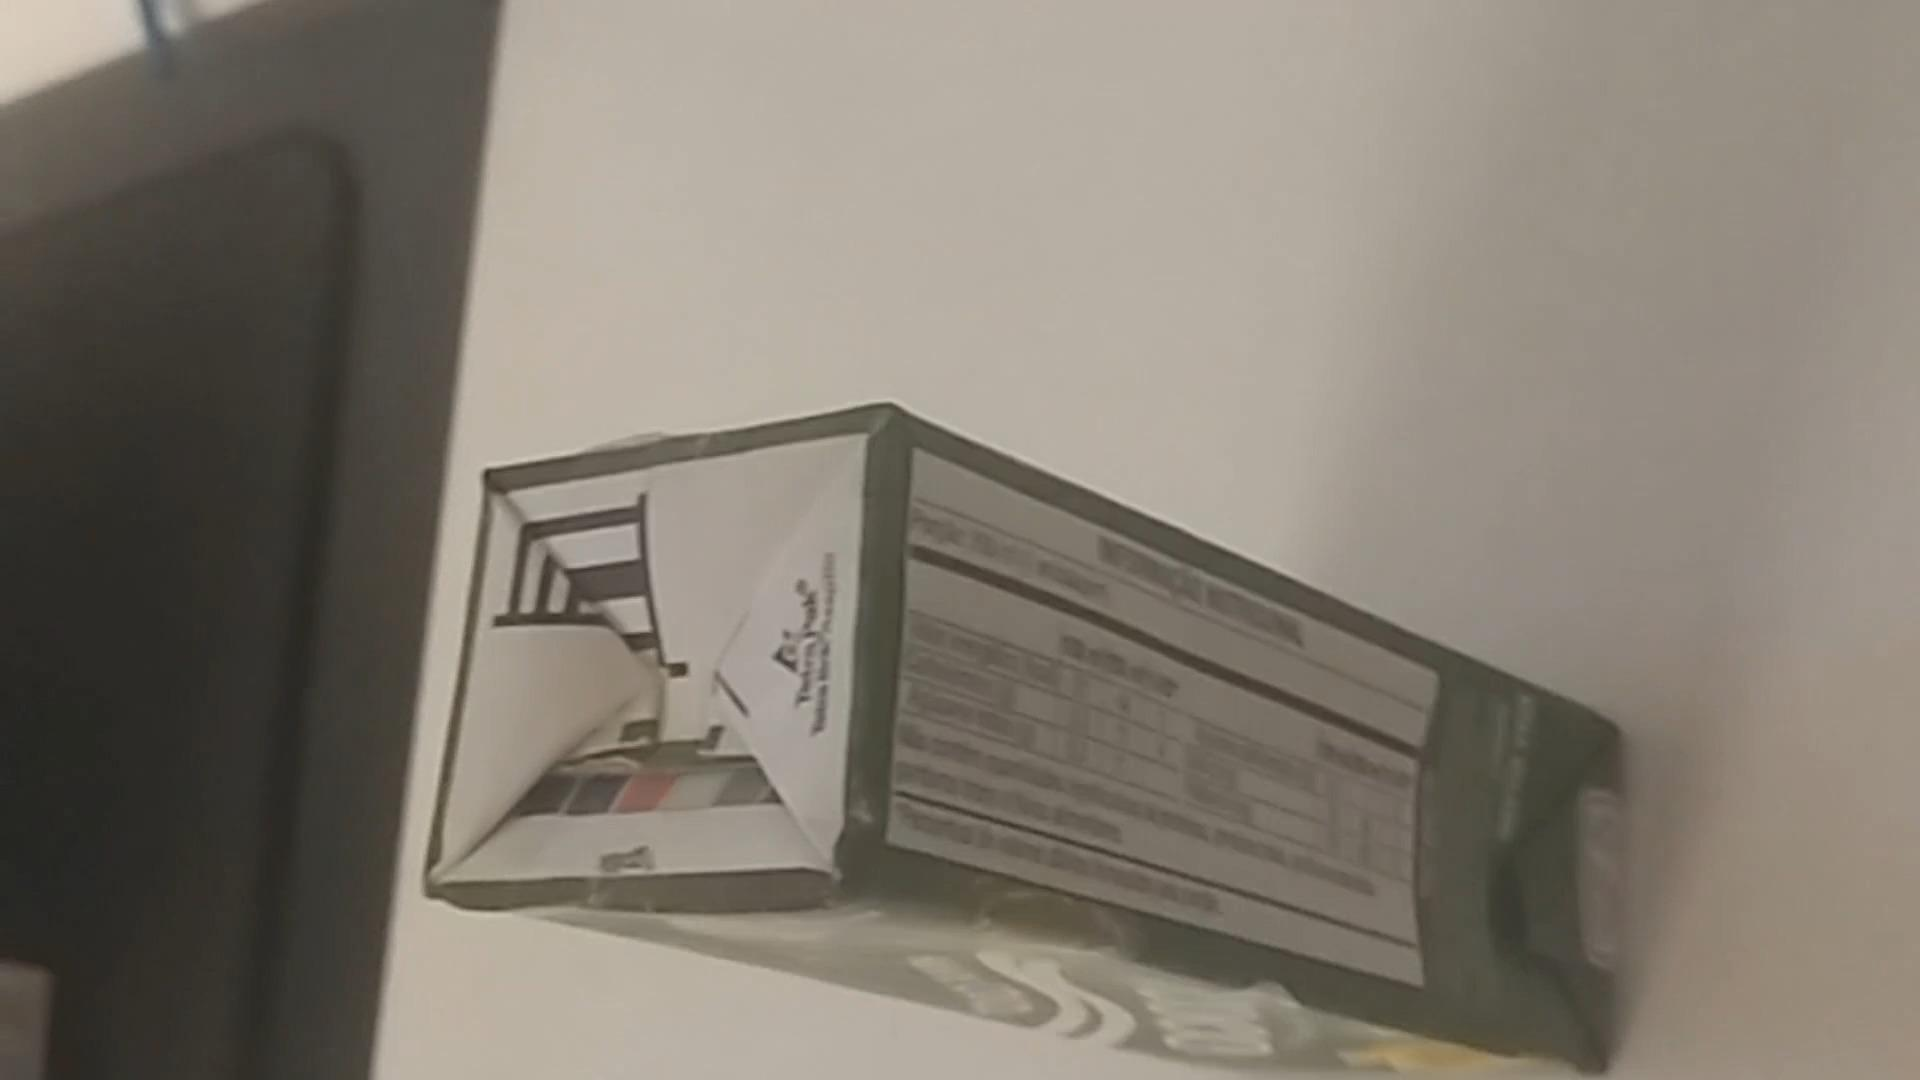coco: (407, 388, 1655, 1080)
